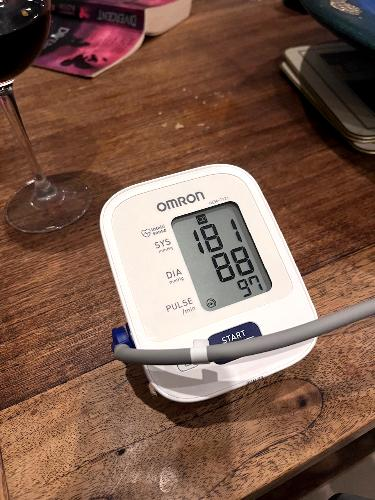bpm: (166, 191, 276, 316)
